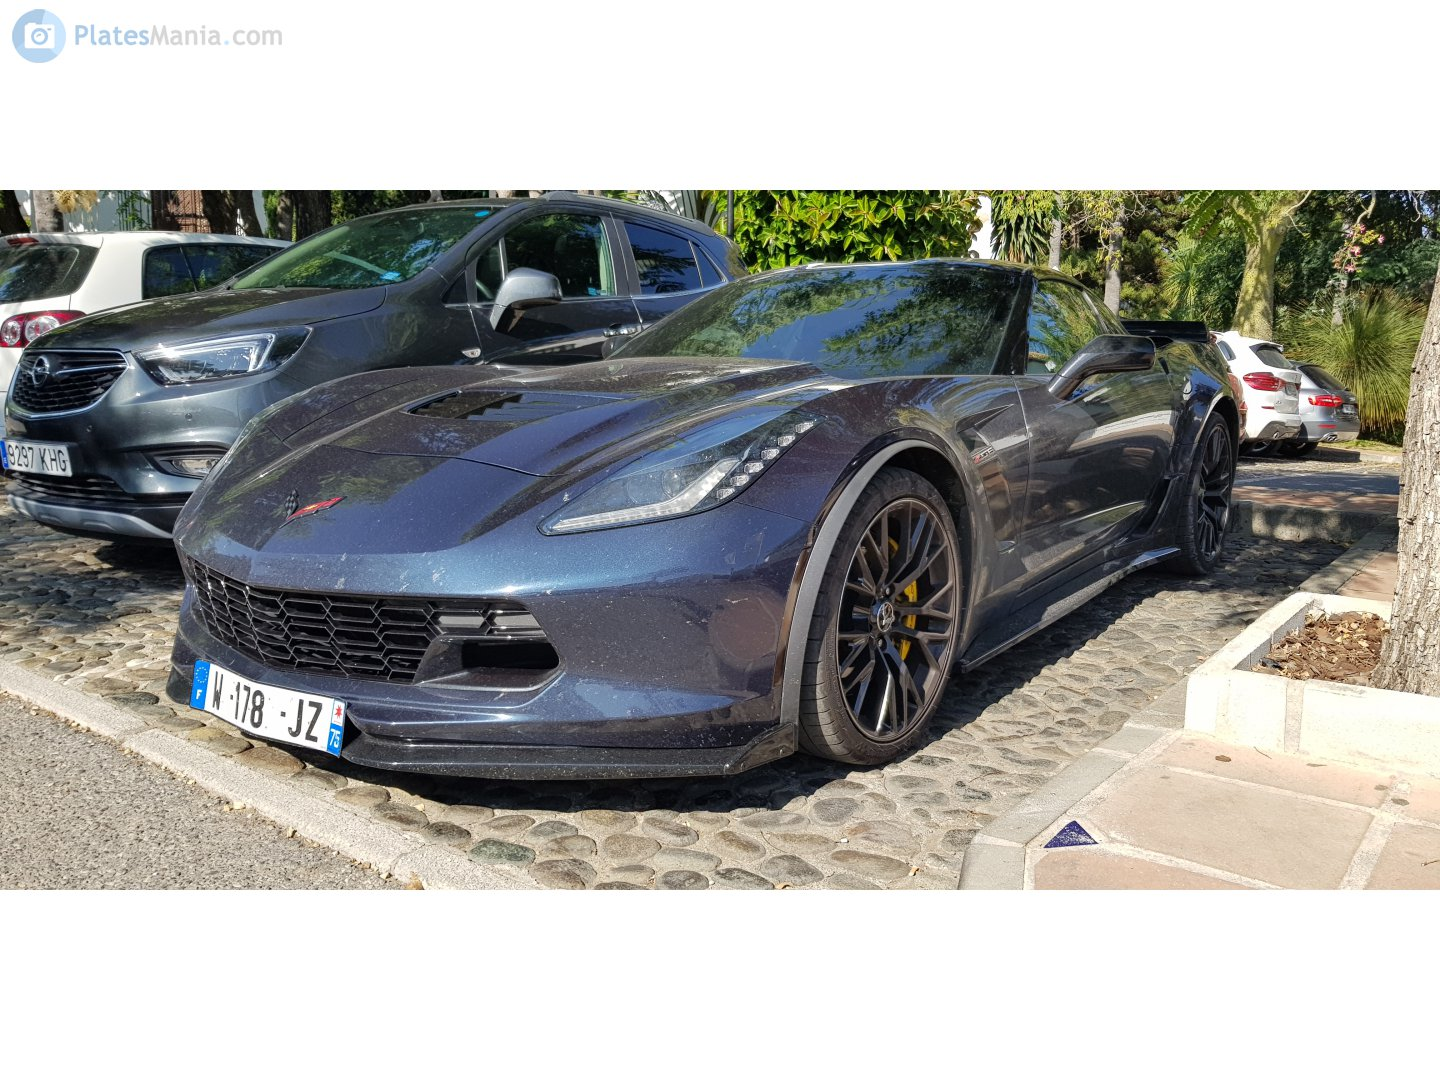licence plate: (185, 652, 353, 760)
